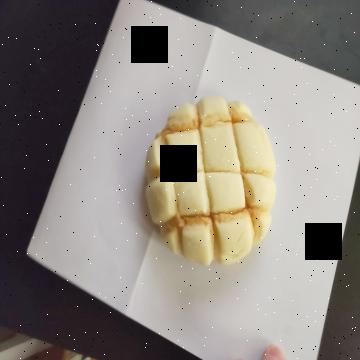melon_bread: (146, 95, 278, 267)
